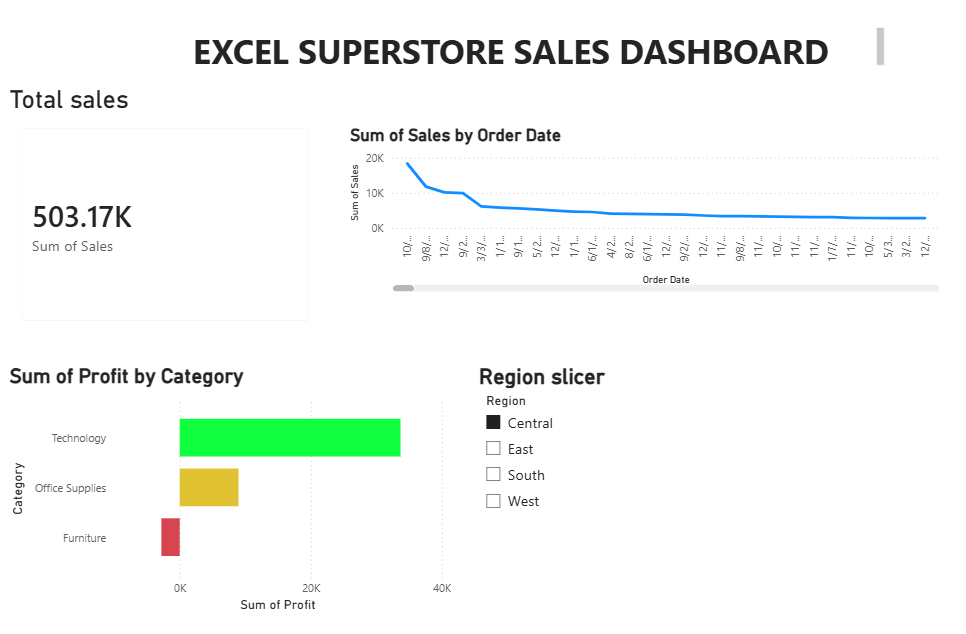

Layout of this report page (visuals, bound fields, positions):
{"tool":"powerbi","page":{"name":"Page 1","canvas":[1280,720],"ordinal":0},"visuals":[{"type":"cardVisual","title":"Total sales","fields":{"Data":["Sum(samplesuperstore.Sales)"]},"box":[13.3,101.7,355,280],"z":0},{"type":"clusteredBarChart","fields":{"Category":["samplesuperstore.Category"],"Y":["Sum(samplesuperstore.Profit)"]},"box":[13.3,411.7,500,280],"z":1000},{"type":"slicer","title":"Region slicer","fields":{"Values":["samplesuperstore.Region"]},"box":[535,411.7,616.7,280],"z":2000},{"type":"textbox","box":[216.7,33.3,778.3,55],"z":3000},{"type":"lineChart","fields":{"Category":["samplesuperstore.Order Date"],"Y":["Sum(samplesuperstore.Sales)"]},"box":[391.7,146.7,665,190],"z":4000}]}

Visuals, with their boxes on the page's 1280x720 design canvas (x1, y1, x2, y2). These are canvas units, not pixel positions in the 966x634 screenshot, which may show the page scaled, cropped or inside an application window:
"Total sales" cardVisual: pyautogui.locateOnScreen(13, 102, 368, 382)
clusteredBarChart - samplesuperstore.Category x Sum(samplesuperstore.Profit): pyautogui.locateOnScreen(13, 412, 513, 692)
"Region slicer" slicer: pyautogui.locateOnScreen(535, 412, 1152, 692)
textbox: pyautogui.locateOnScreen(217, 33, 995, 88)
lineChart - samplesuperstore.Order Date x Sum(samplesuperstore.Sales): pyautogui.locateOnScreen(392, 147, 1057, 337)
